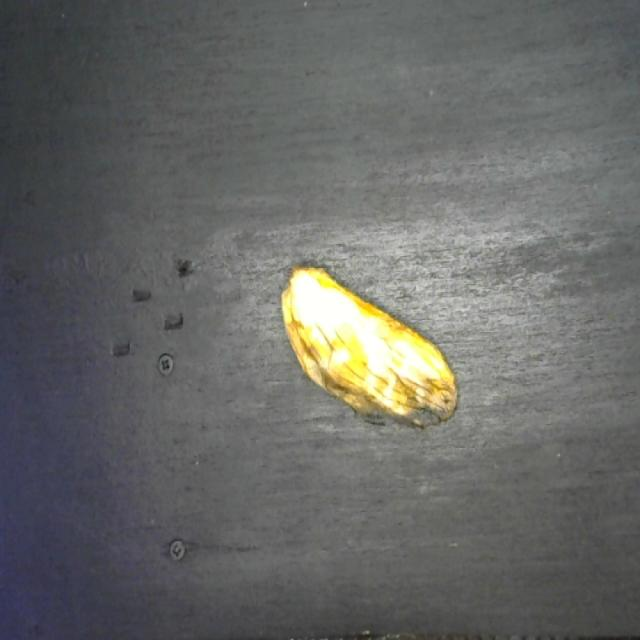biodegradable: (280, 256, 462, 434)
